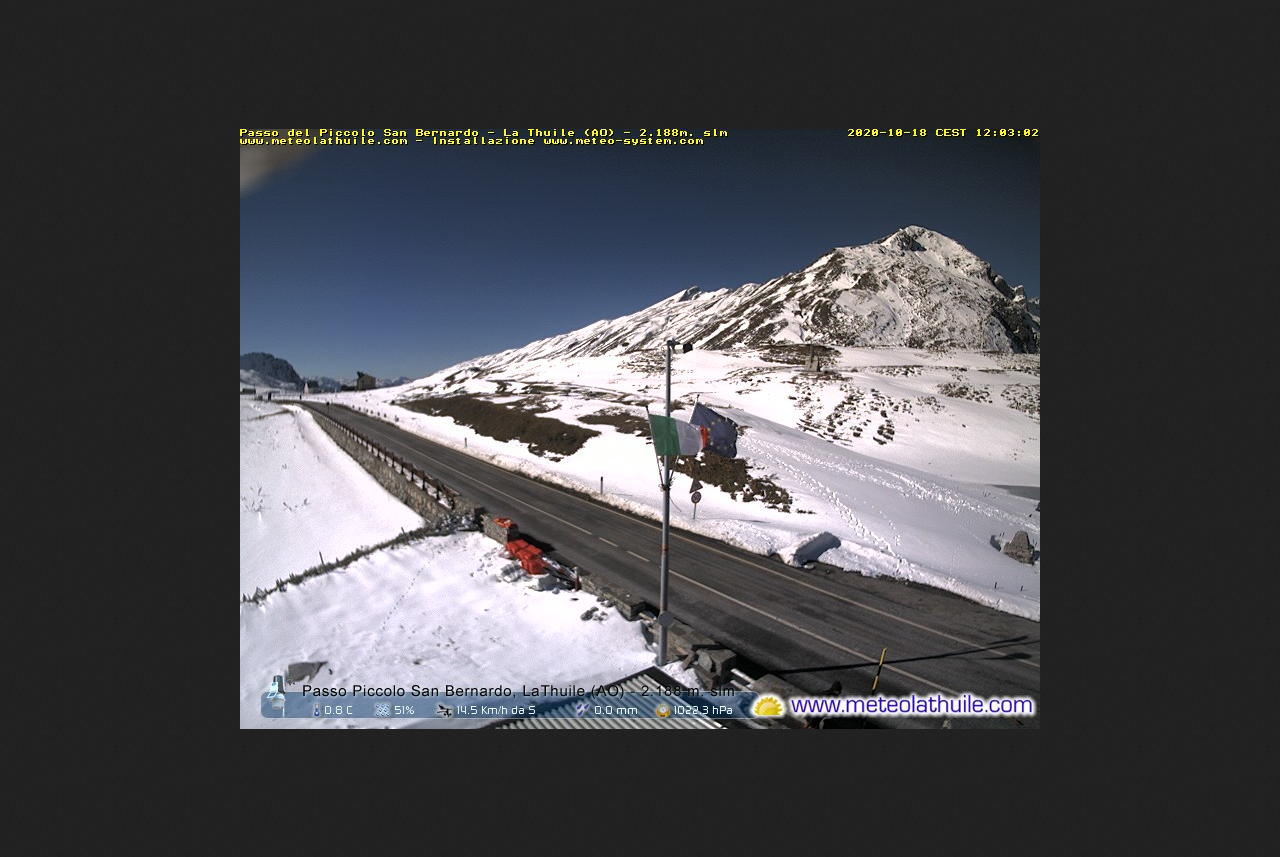yes: (645, 413, 710, 459), (691, 403, 739, 453)
